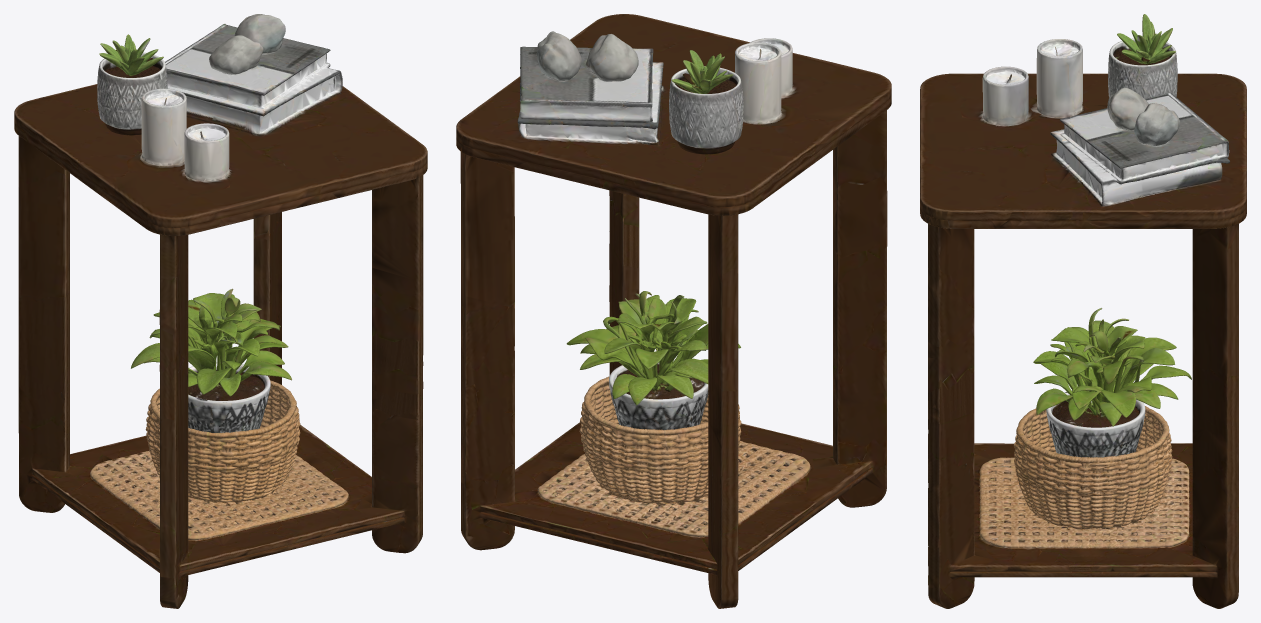
The model's file is inoslashed-beautiful-wooden-side-table-end-table-plant-stand.glb.
The picture shows the model from 3 angles, left to right: view 1: azimuth 30°, elevation 25°; view 2: azimuth 150°, elevation 25°; view 3: azimuth 270°, elevation 25°; orthographic projection. The views are drawn at different scales.
Bounding box in the file's own units: 1.14 × 1.9 × 1.14.
Materials: 1 (1 with a texture image).
